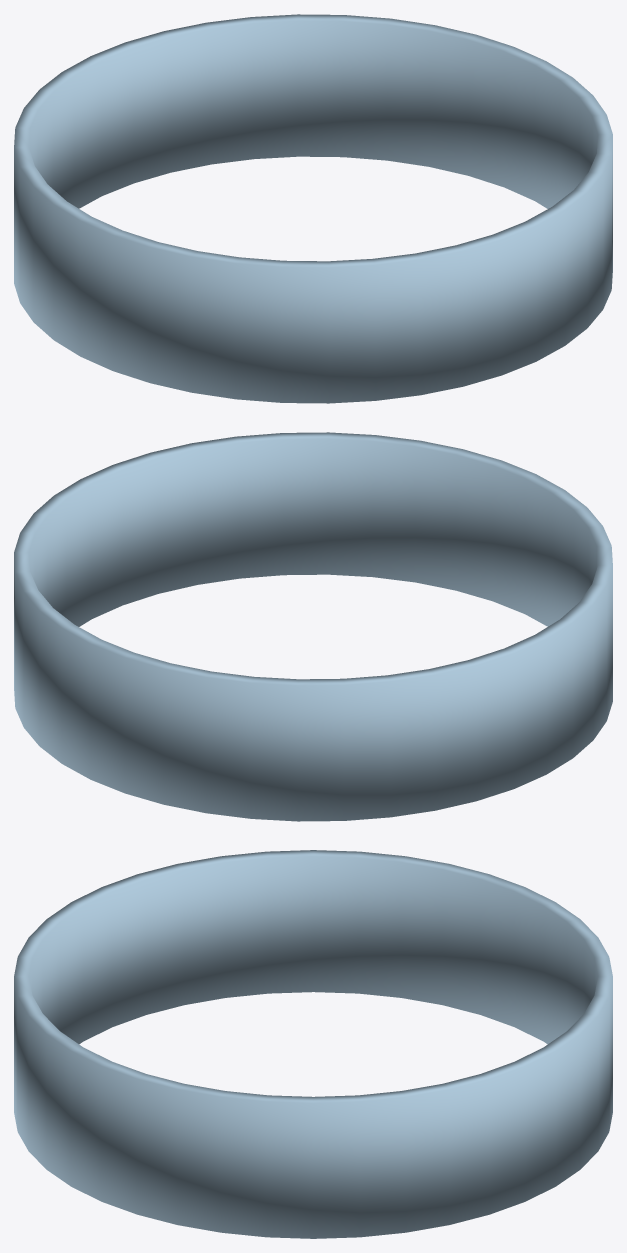
File: round-wall.dae
3 renders of one model, top to bottom at view 1: azimuth 30°, elevation 25°; view 2: azimuth 150°, elevation 25°; view 3: azimuth 270°, elevation 25°, orthographic.
Parts seen in each view (by area): view 1: Cylinder; view 2: Cylinder; view 3: Cylinder.
Boxes of the visible parts, box(x1,y1,x2,y2) form: Cylinder: box(14, 14, 612, 403); Cylinder: box(14, 432, 612, 821); Cylinder: box(14, 850, 612, 1238).
Size of the model in its own units: 20 by 20 by 5.
